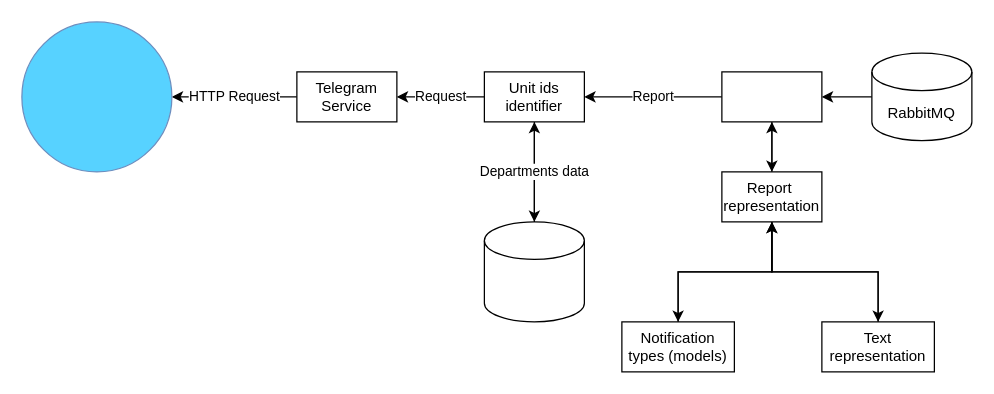
Image size: 994x394. Some labels were removed from this diagram. The centre of each missing label's shape, as x and y in pixels:
"Notification type identifier" belongs at (x=771, y=96).
"SQL Database" belongs at (x=533, y=271).
"Telegram" belongs at (x=96, y=96).
